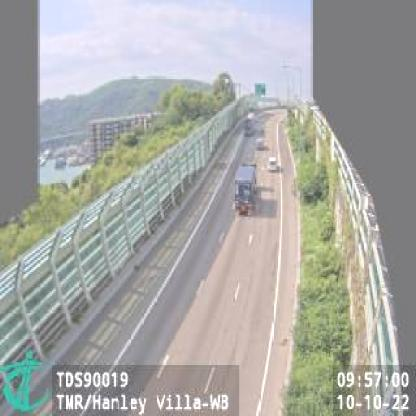Car: (270, 156, 281, 172)
Truck: (236, 162, 258, 215)
